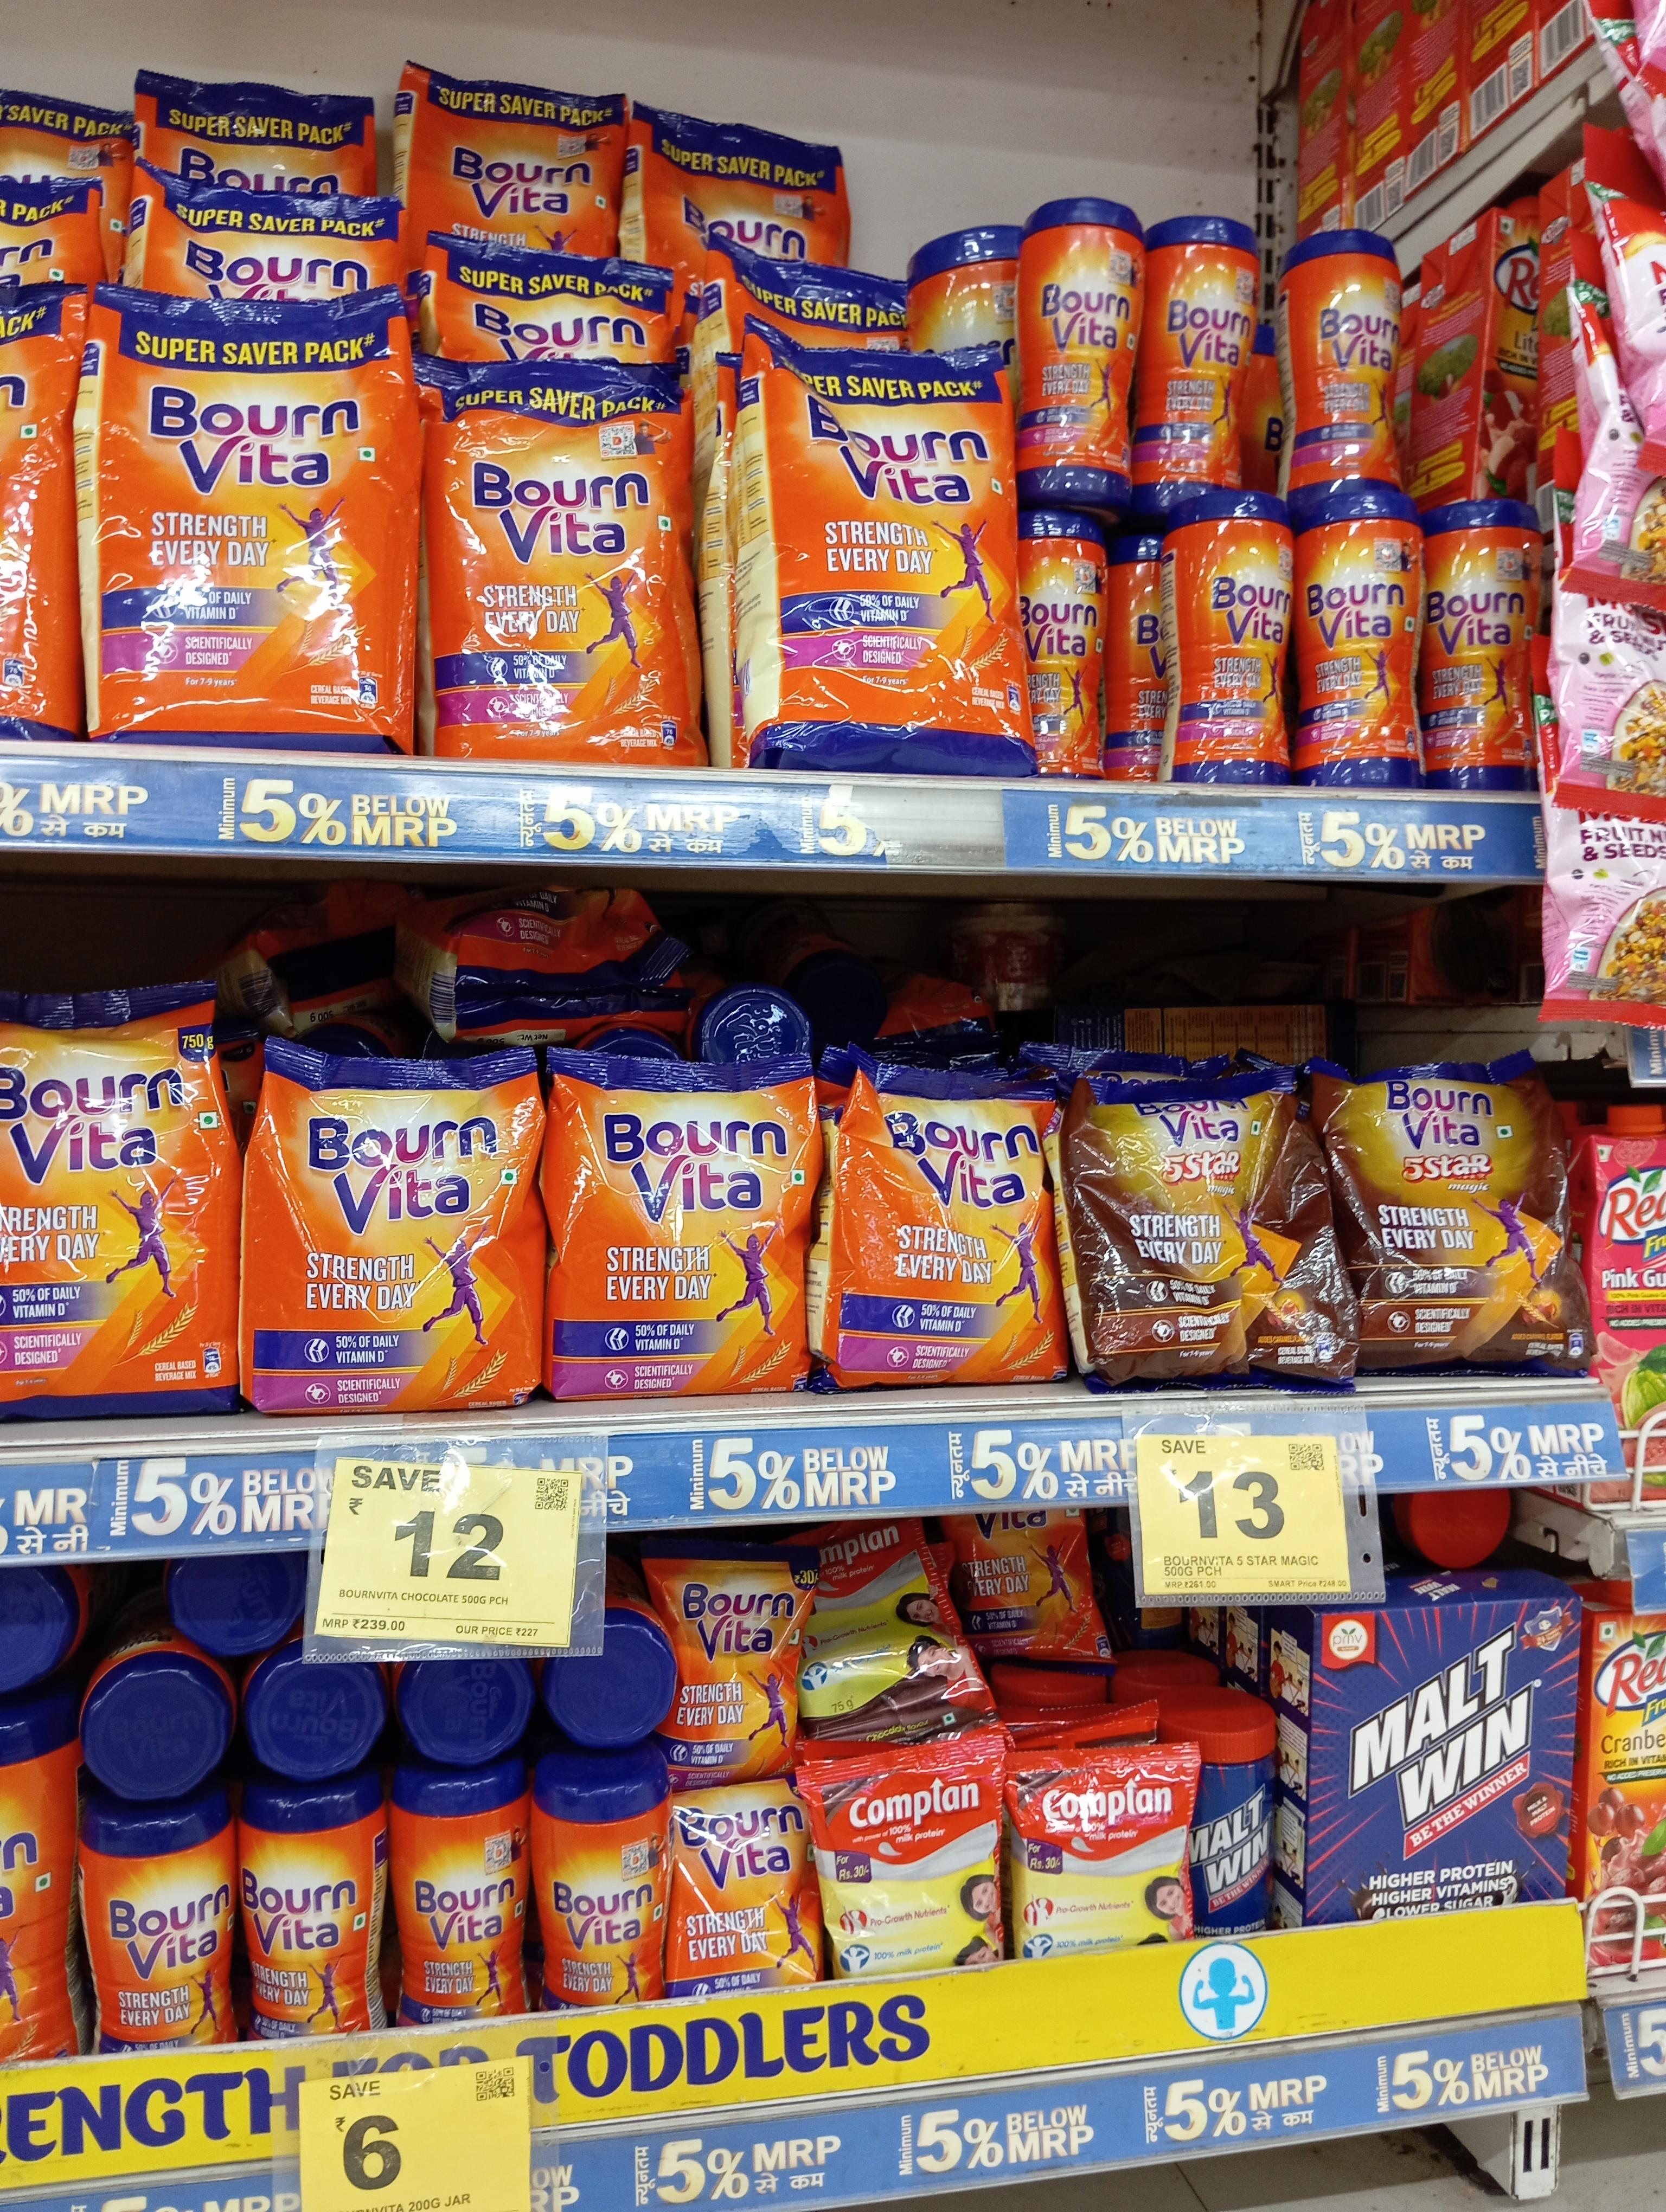BOURN_VITA_1_KG_POUCH: (84, 285, 415, 750), (738, 316, 1036, 783), (446, 353, 691, 771)
BOURN_VITA_200_G_JAR: (79, 1801, 238, 2046), (527, 1761, 668, 2009), (245, 1787, 385, 2027), (394, 1775, 521, 2021)
BOURN_VITA_500_G_JAR: (1297, 495, 1428, 789), (1162, 497, 1290, 783), (1278, 231, 1418, 481), (1435, 495, 1531, 796)
BOURN_VITA_500_G_POUCH: (250, 1032, 532, 1408), (548, 1047, 814, 1404), (831, 1058, 1057, 1385)
BOURN_VITA_750_G_POUCH: (4, 986, 235, 1420)
BOURN_VITA_75_G_POUCH: (674, 1548, 810, 1773), (674, 1787, 812, 1999)
BOURN_VITA_FIVE_STAR_MAGIC_500_G_POUCH: (1066, 1079, 1355, 1395), (1360, 1056, 1594, 1380)
